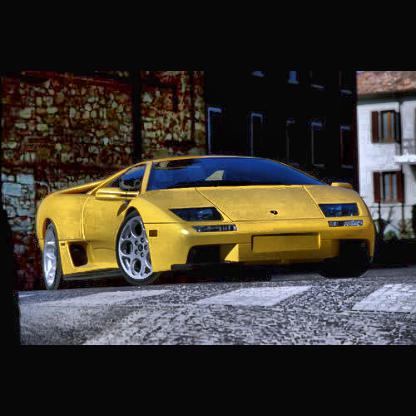Lamborghini Diablo Coupe 2001: (16, 137, 400, 324)
